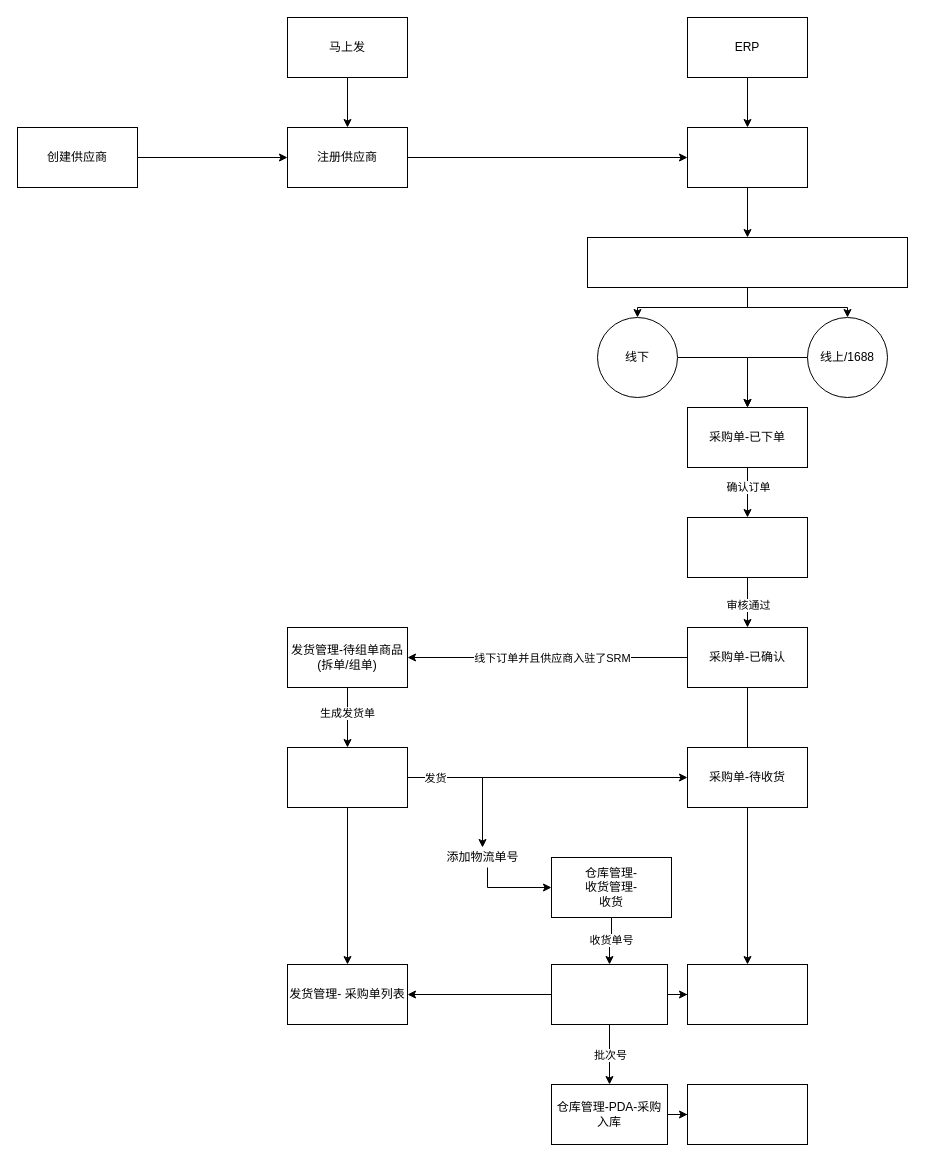
Image size: 925x1162. Some labels were removed from this diagram. Each missing label, with the box of its shape:
仓库管理- 收货管理- 拆包- 确认收货: (550, 964, 668, 1024)
供应商协同-供应商列表-审核: (686, 126, 808, 188)
创建采购计划: (586, 236, 908, 288)
发货管理-发货单列表: (286, 746, 408, 808)
采购单-审核: (686, 516, 808, 578)
采购单-已完成: (686, 1084, 808, 1144)
采购单-已收货: (686, 964, 808, 1024)
